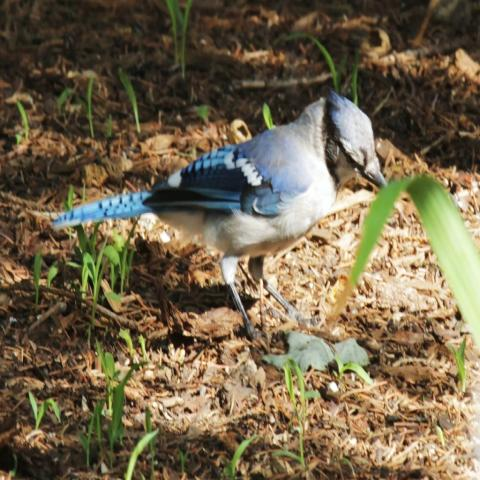bird: (50, 87, 389, 352)
